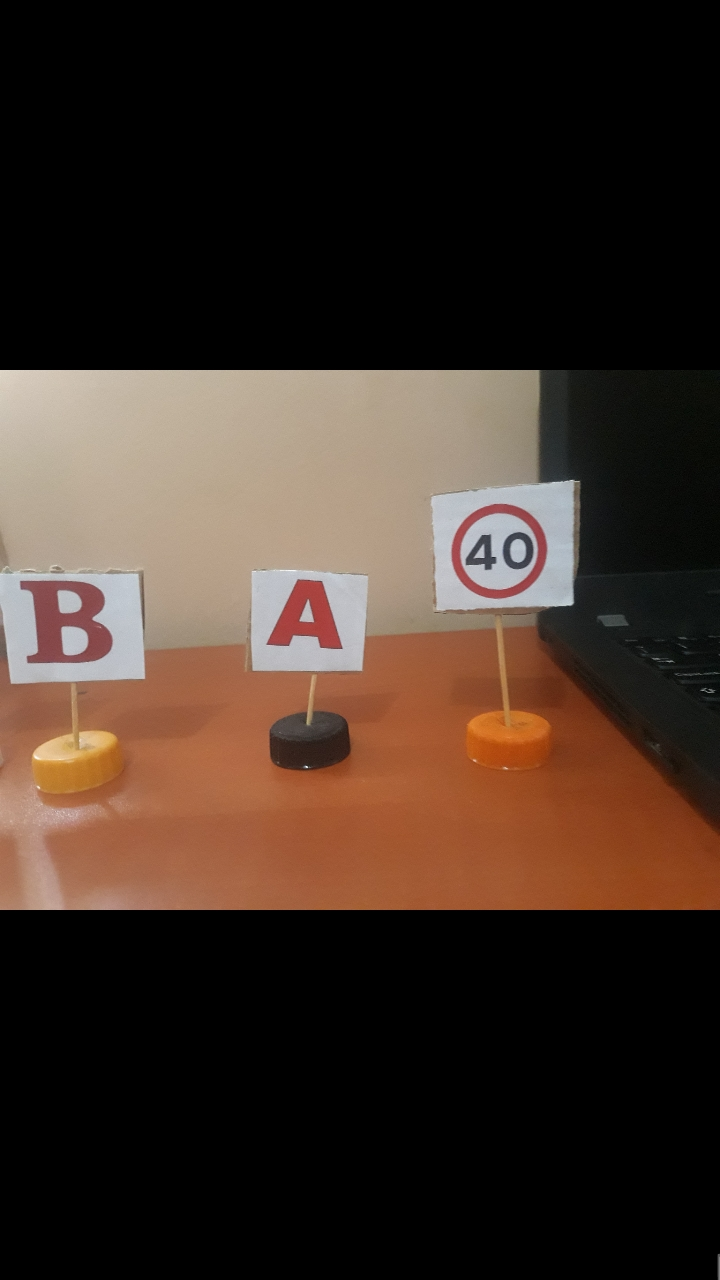40 kph: (436, 484, 573, 615)
zone A: (257, 565, 367, 676)
zone B: (4, 572, 140, 676)
